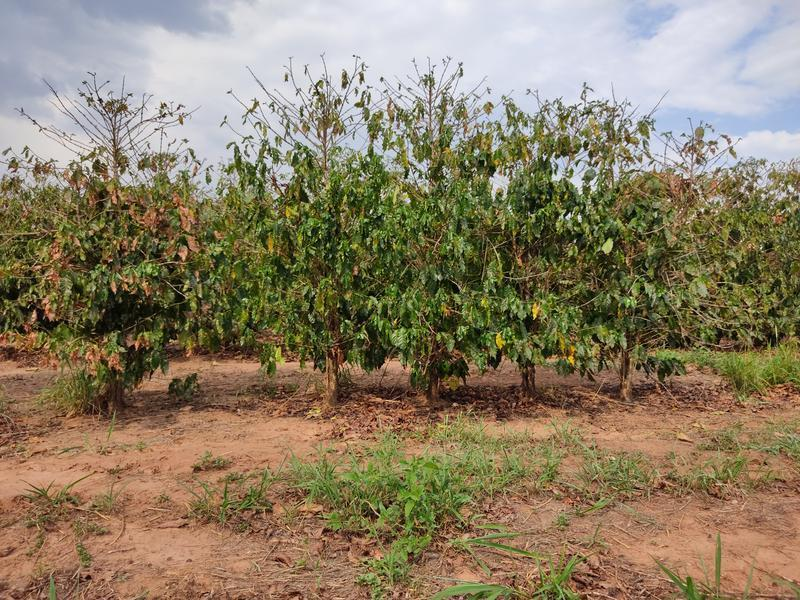coffee: (16, 59, 193, 426), (235, 54, 394, 424), (374, 44, 486, 413), (578, 100, 703, 415), (470, 87, 583, 413)
